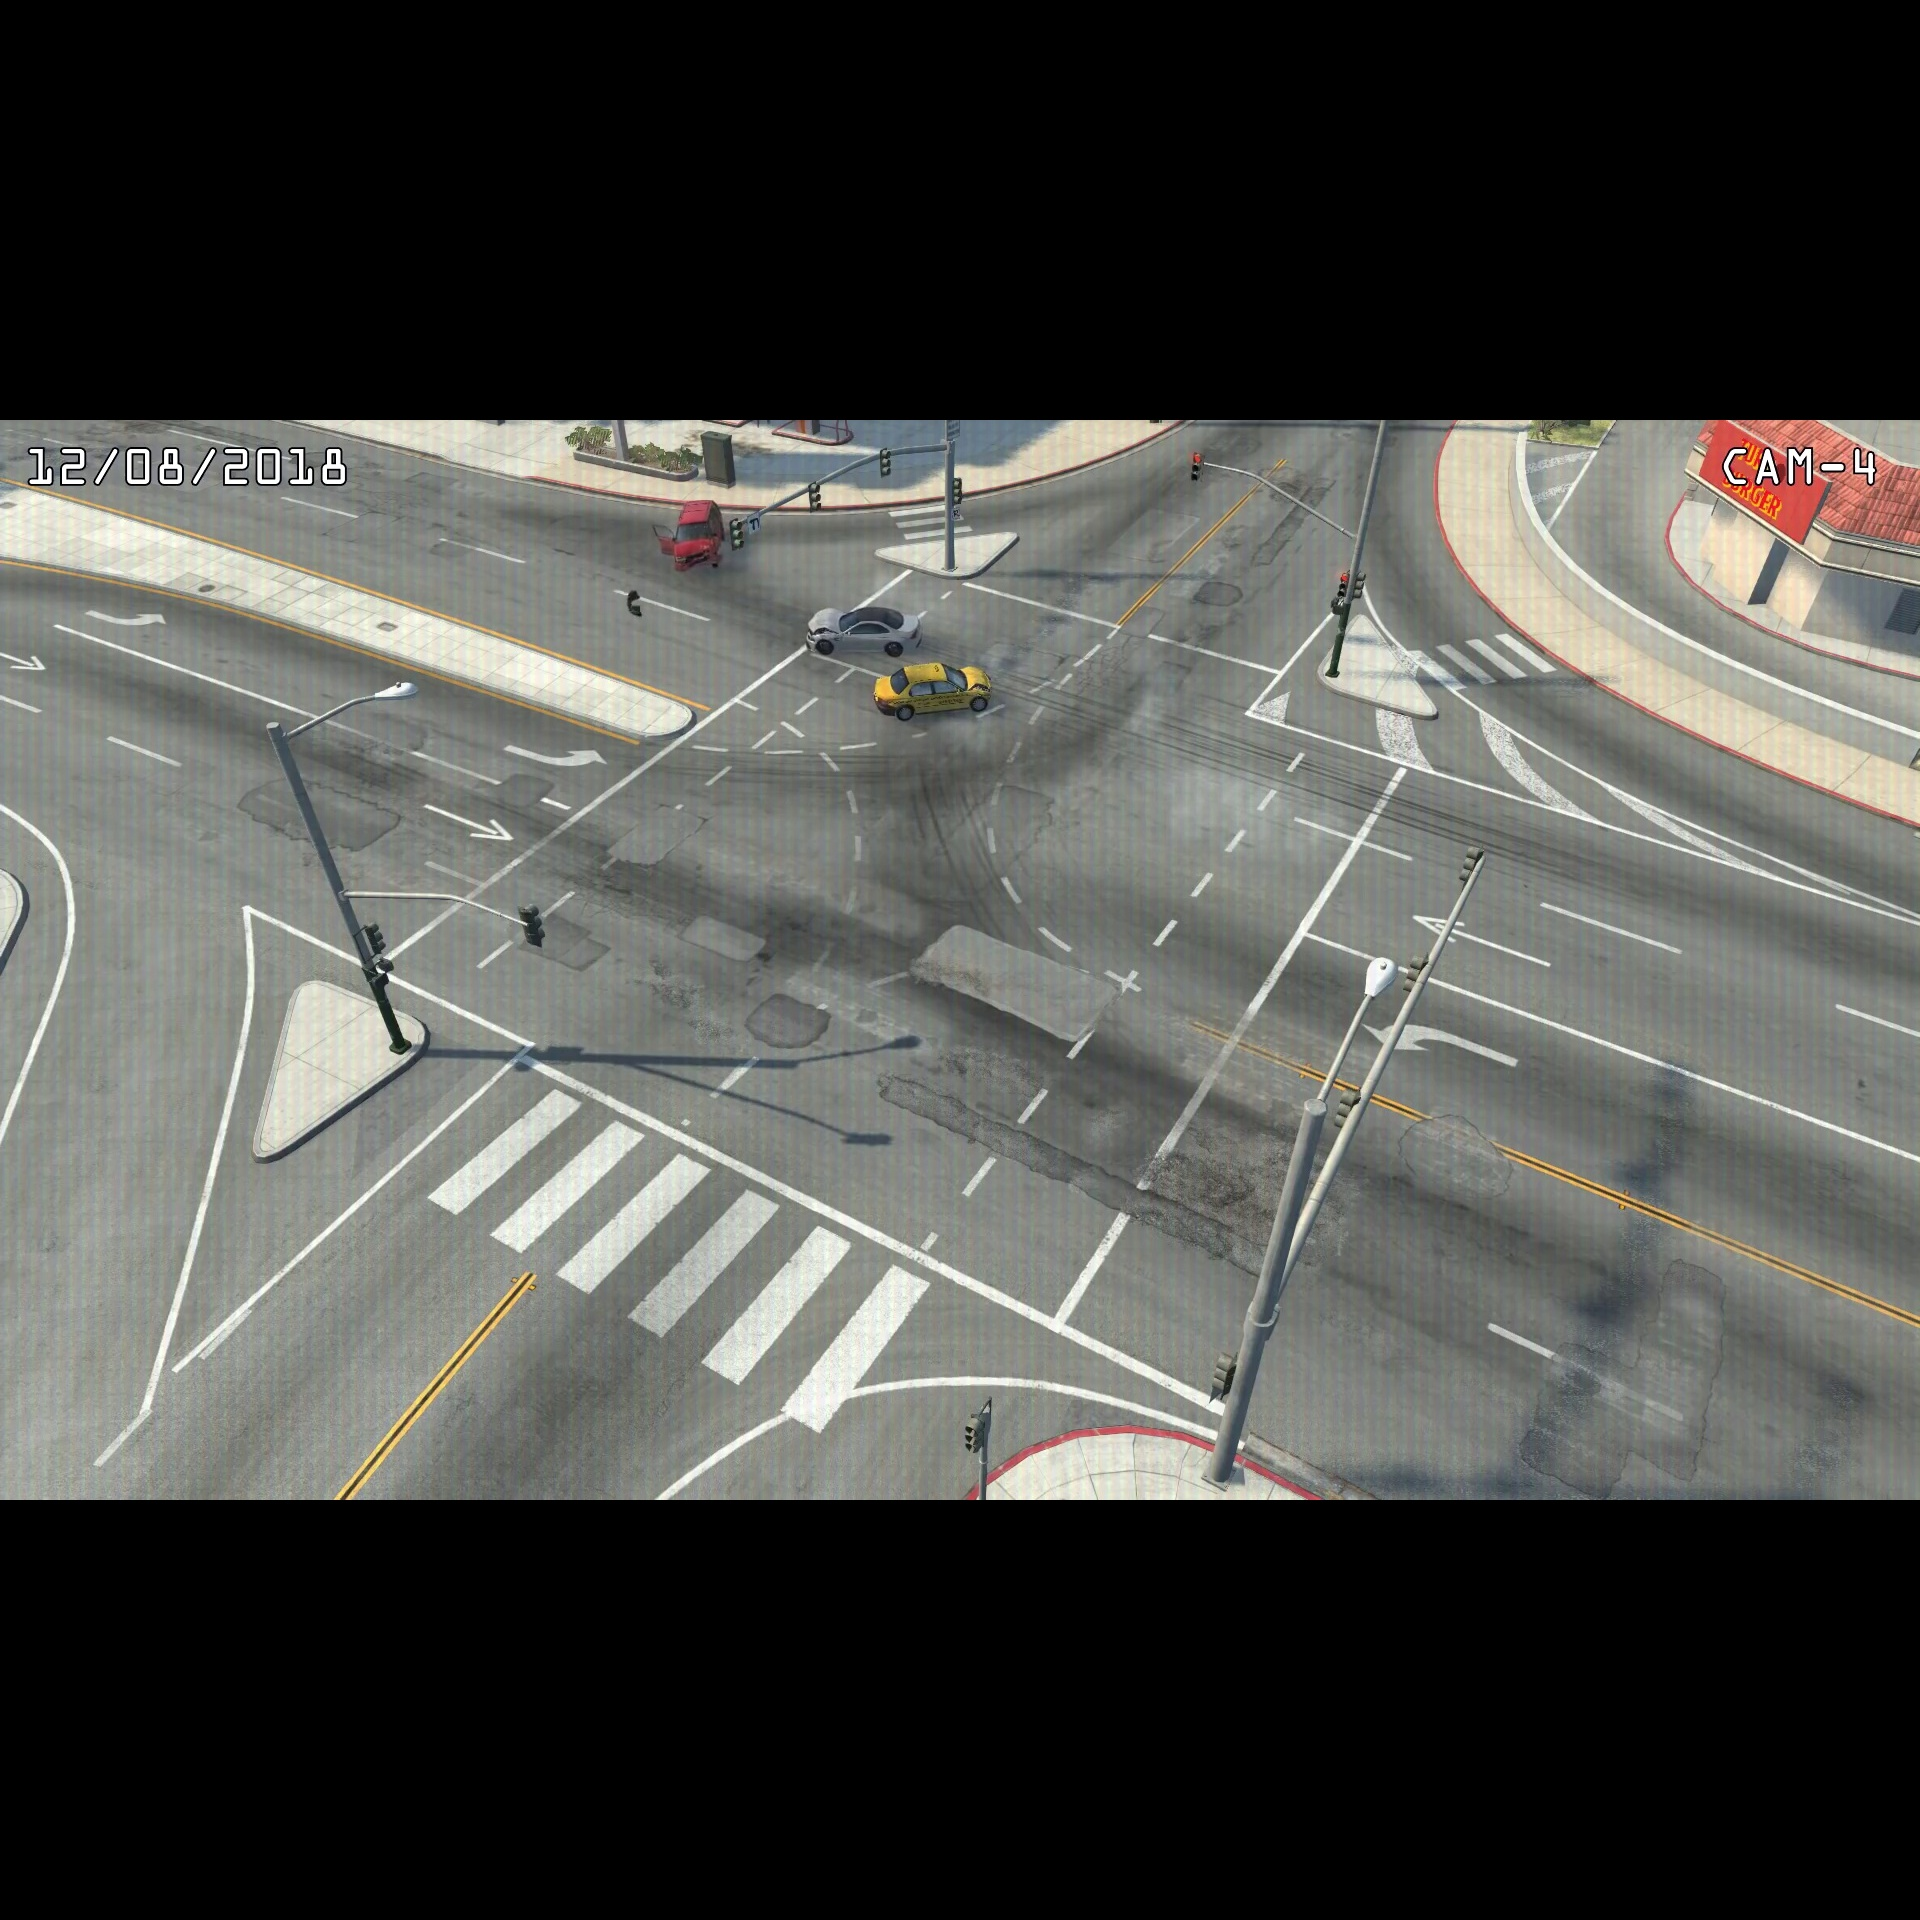vehicle: (869, 658, 1000, 726), (798, 598, 923, 661), (663, 491, 731, 578)
